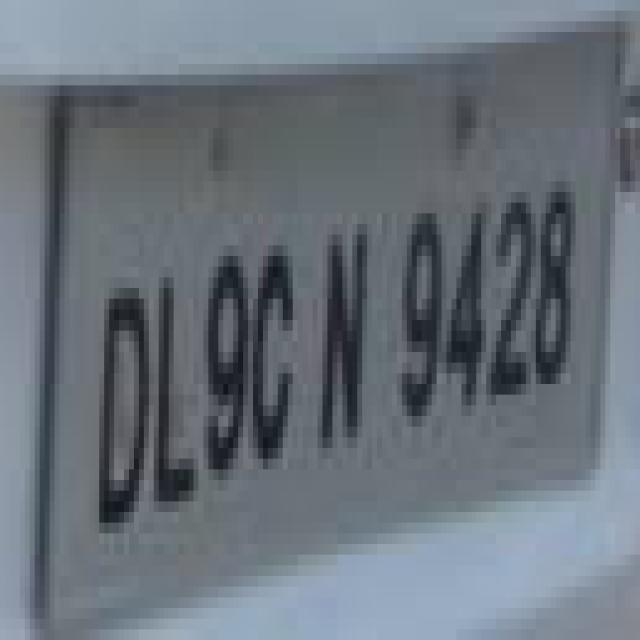license_plate: (5, 107, 605, 576)
